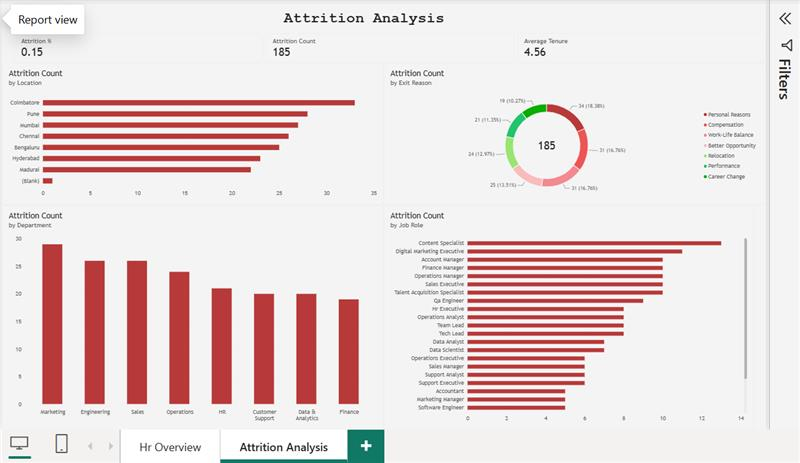

The page's visual inventory and layout, read from the dashboard file:
{"tool":"powerbi","page":{"name":"Attrition Analysis","canvas":[1920,1080],"ordinal":1},"visuals":[{"type":"cardVisual","fields":{"Data":["Date_Table.Attrition %","Date_Table.Attrition Count","Date_Table.Average Tenure"]},"box":[31,83.5,1889.6,74],"z":0},{"type":"columnChart","fields":{"Category":["Employees_Raw.Department"],"Y":["Date_Table.Attrition Count"]},"box":[0,515.4,959.1,565.5],"z":1},{"type":"clusteredBarChart","fields":{"Category":["Employees_Raw.Job Role"],"Y":["Date_Table.Attrition Count"]},"box":[959.1,515.4,930.5,565.5],"z":2},{"type":"donutChart","fields":{"Y":["Date_Table.Attrition Count"],"Category":["Employees_Raw.Exit Reason"]},"box":[959.1,157.5,961.5,357.9],"z":3},{"type":"clusteredBarChart","fields":{"Y":["Date_Table.Attrition Count"],"Category":["Employees_Raw.Location"]},"box":[0,157.5,959.1,357.9],"z":4},{"type":"textbox","box":[260.1,23.9,1300.3,59.6],"z":5}]}

Visuals, with their boxes on the page's 1920x1080 design canvas (x1, y1, x2, y2). These are canvas units, not pixel positions in the 800x463 screenshot, which may show the page scaled, cropped or inside an application window:
cardVisual - Date_Table.Attrition % x Date_Table.Attrition Count: [left=31, top=84, right=1921, bottom=158]
columnChart - Employees_Raw.Department x Date_Table.Attrition Count: [left=0, top=515, right=959, bottom=1081]
clusteredBarChart - Employees_Raw.Job Role x Date_Table.Attrition Count: [left=959, top=515, right=1890, bottom=1081]
donutChart - Date_Table.Attrition Count x Employees_Raw.Exit Reason: [left=959, top=158, right=1921, bottom=515]
clusteredBarChart - Date_Table.Attrition Count x Employees_Raw.Location: [left=0, top=158, right=959, bottom=515]
textbox: [left=260, top=24, right=1560, bottom=84]
